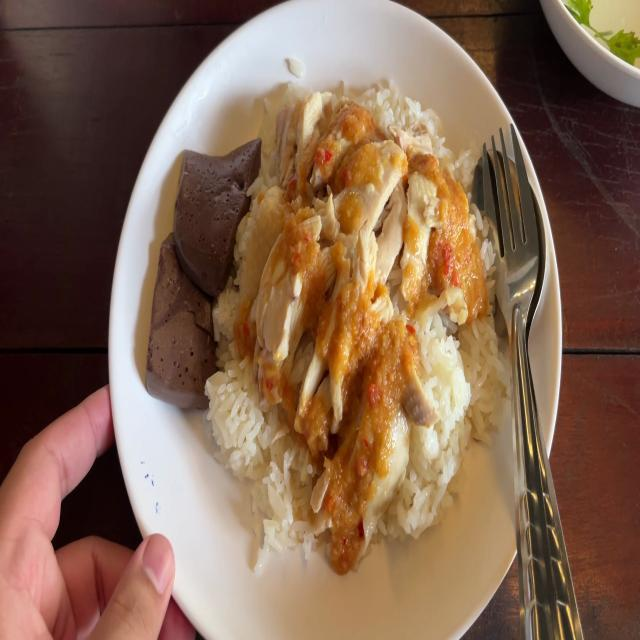boiled_chicken: (275, 105, 453, 508)
boiled_chicken_blood_jelly: (166, 125, 251, 305), (142, 228, 218, 412)
chicken_rice: (133, 71, 518, 571)
